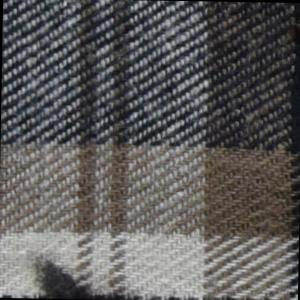Stain: (23, 246, 126, 300)
